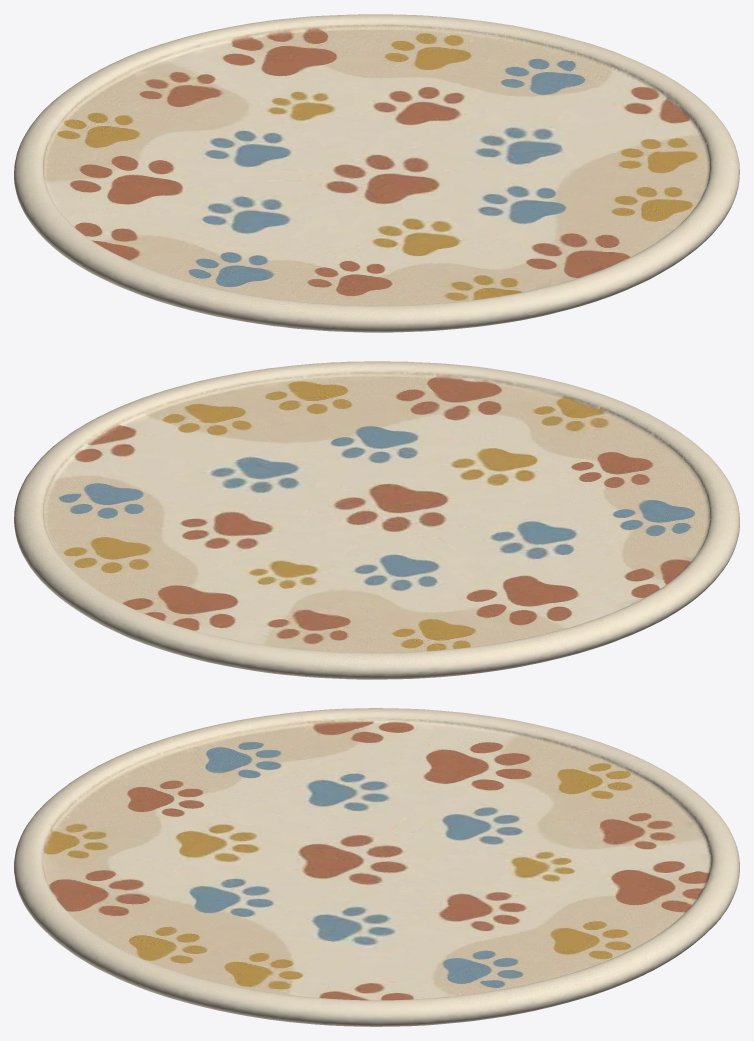
File: pawprint-rug.glb
3 views of the same model, one above another, from view 1: azimuth 30°, elevation 25°; view 2: azimuth 150°, elevation 25°; view 3: azimuth 270°, elevation 25° (orthographic).
Parts seen in each view (by area): view 1: mesh_node; view 2: mesh_node; view 3: mesh_node.
Boxes of the visible parts, left/top/right/bottom form: mesh_node: left=14, top=14, right=739, bottom=332; mesh_node: left=14, top=361, right=739, bottom=679; mesh_node: left=14, top=708, right=739, bottom=1026.
Bounding box in the file's own units: 1.9 × 0.0664 × 1.9.
Materials: 1 (1 with a texture image).
